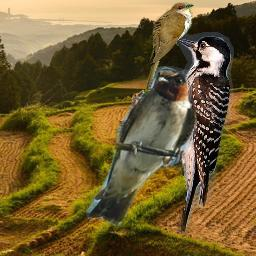Cuckoo: (144, 2, 194, 95)
Swallow: (85, 66, 197, 226)
Woodpecker: (166, 31, 234, 240)
